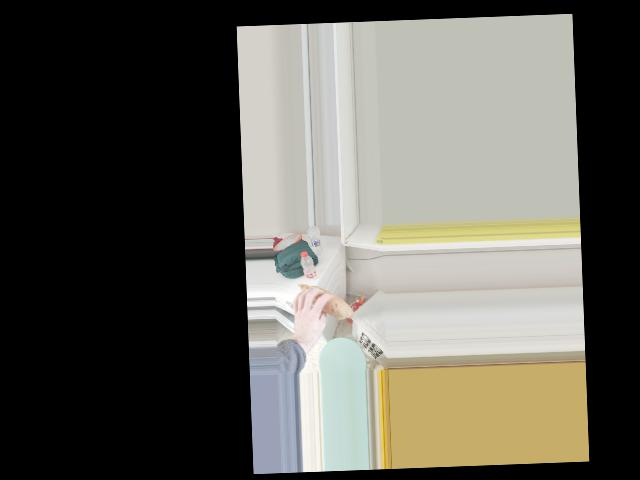sweet_potato: (295, 284, 351, 321)
